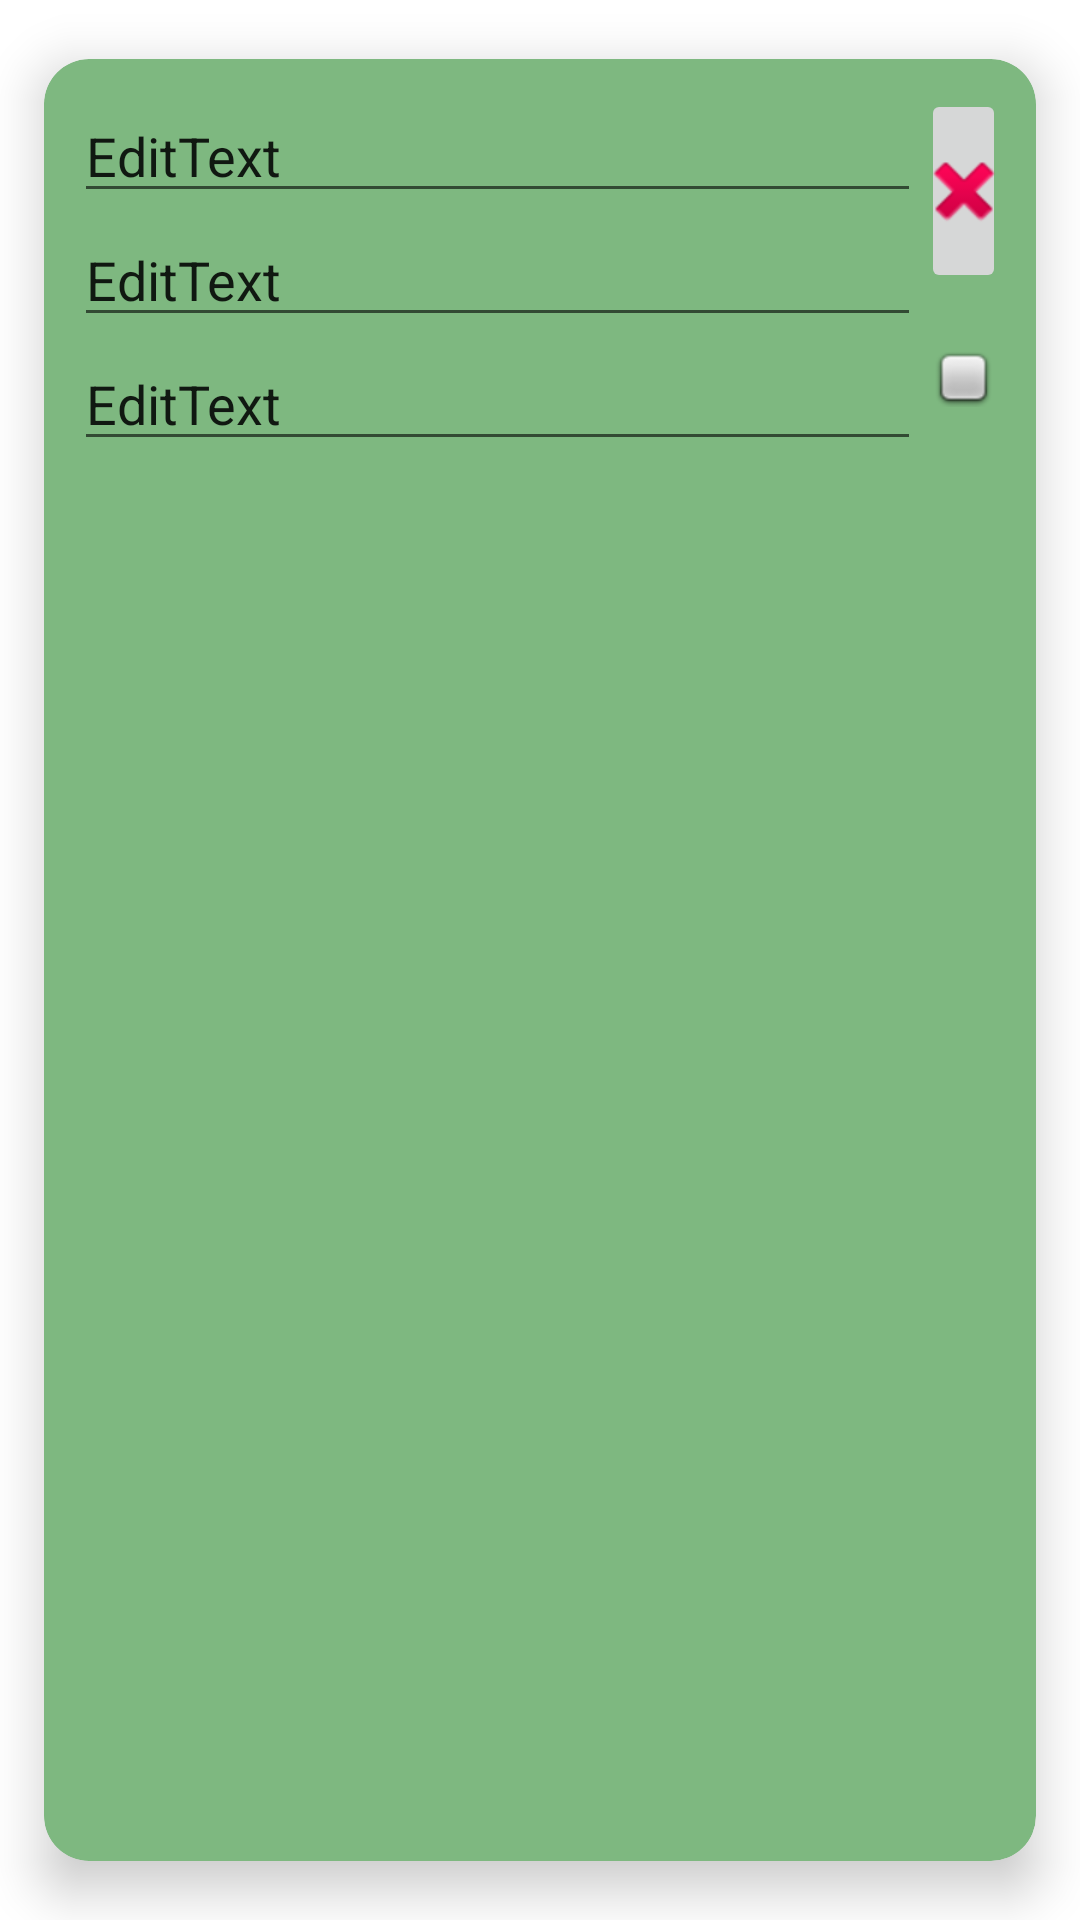

Where to tap for icons on this 1080 x 1920 app screen, as (x=x, y=y):
delete: (x=963, y=191)
